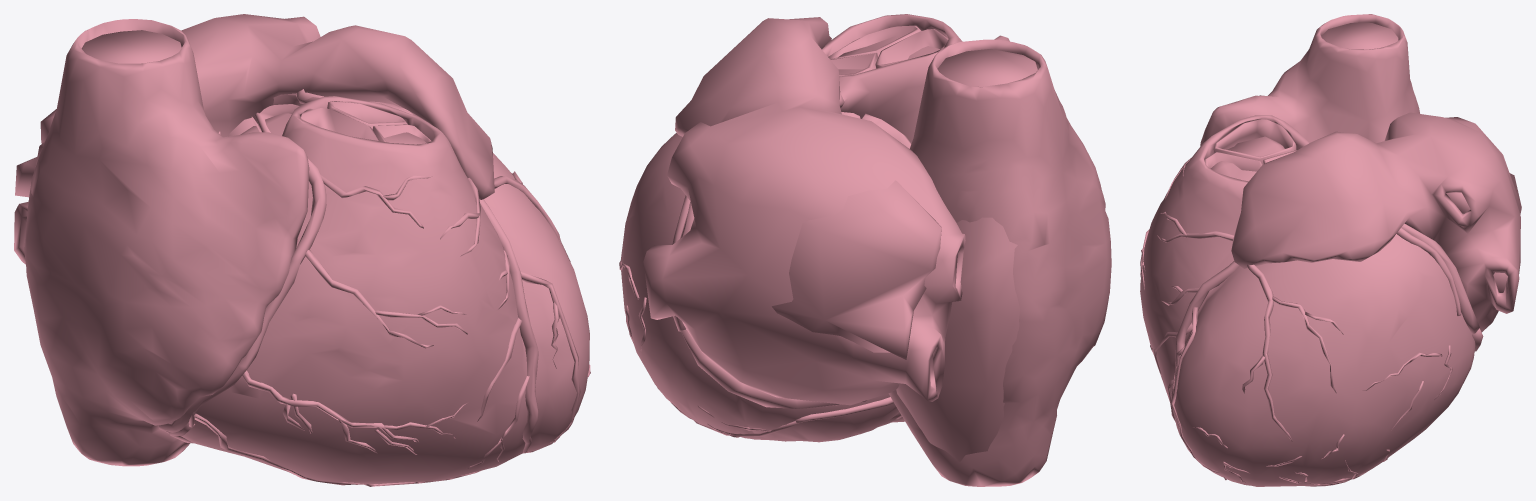
The model's file is heart.glb.
3 renders of one model, left to right at view 1: azimuth 30°, elevation 25°; view 2: azimuth 150°, elevation 25°; view 3: azimuth 270°, elevation 25°, orthographic. The views are drawn at different scales.
Visible parts, largest first — view 1: heart; view 2: heart; view 3: heart.
Part boxes in pixels (<box>): heart: <box>14,14,590,486</box>; heart: <box>619,14,1111,486</box>; heart: <box>1140,14,1521,486</box>.
Bounding box in the file's own units: 0.0672 × 0.0613 × 0.0619.
